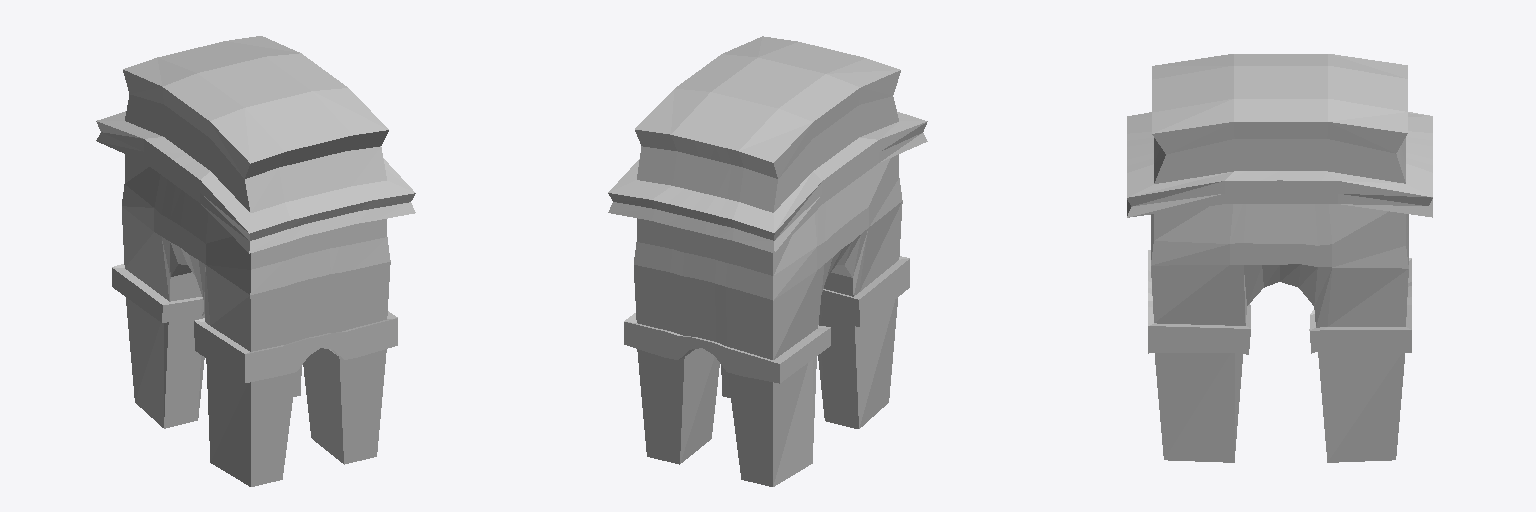
File: arch.obj
3 renders of one model, left to right at view 1: azimuth 30°, elevation 25°; view 2: azimuth 150°, elevation 25°; view 3: azimuth 270°, elevation 25°, orthographic.
Parts seen in each view (by area): view 1: arch group1; view 2: arch group1; view 3: arch group1.
Boxes of the visible parts, box(x1,y1,x2,y2) form: arch group1: box(96, 36, 415, 486); arch group1: box(608, 36, 927, 486); arch group1: box(1127, 54, 1432, 462).
Bounding box in the file's own units: 5.77 × 11.51 × 9.22.